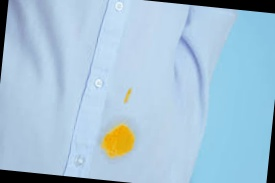mustard: (103, 127, 138, 158), (123, 88, 133, 104)
